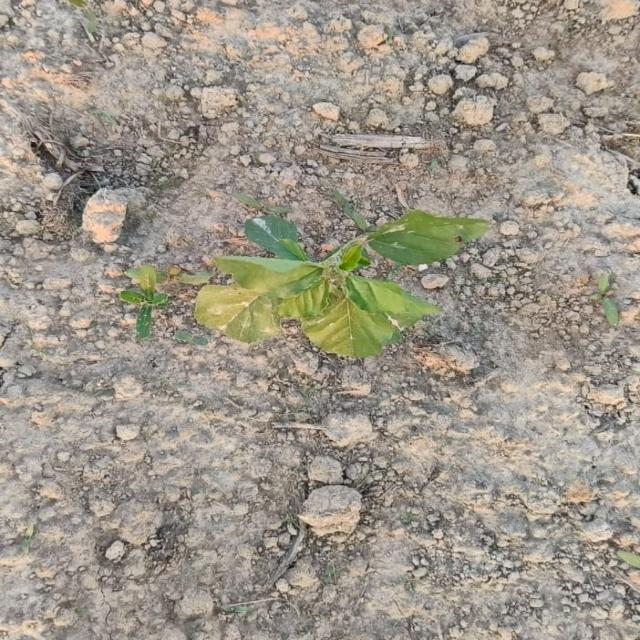weed: (196, 196, 489, 358), (119, 265, 169, 338)
